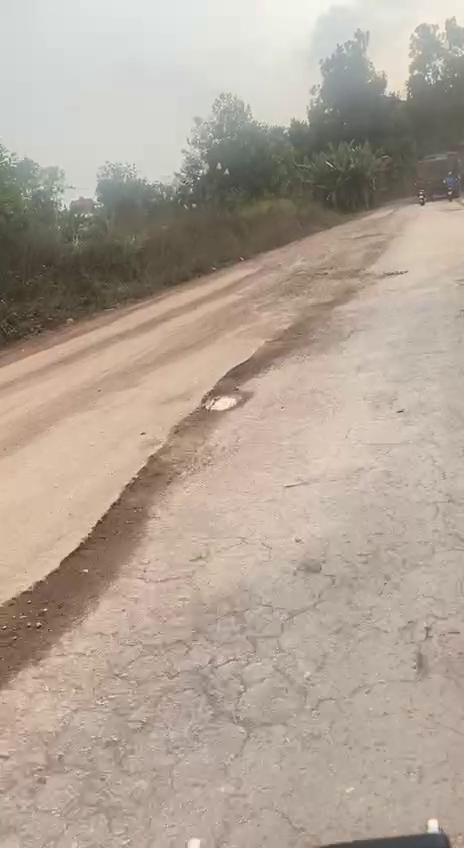pothole: (0, 457, 170, 680), (198, 388, 248, 414)
